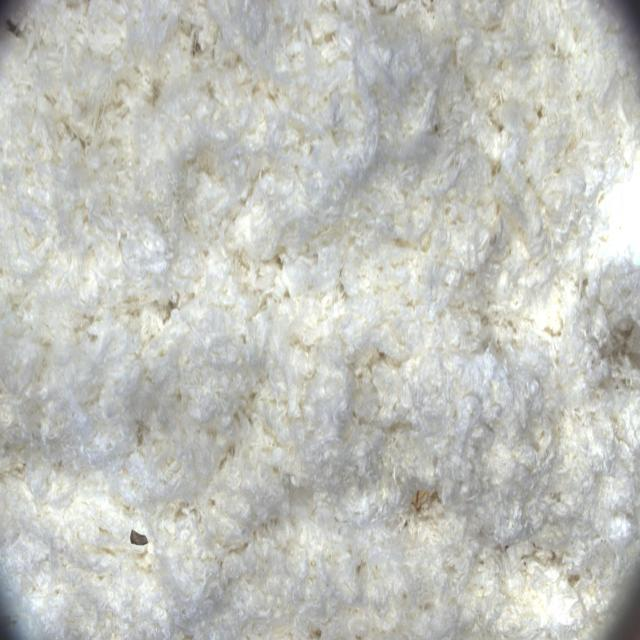dust: (118, 508, 159, 562)
